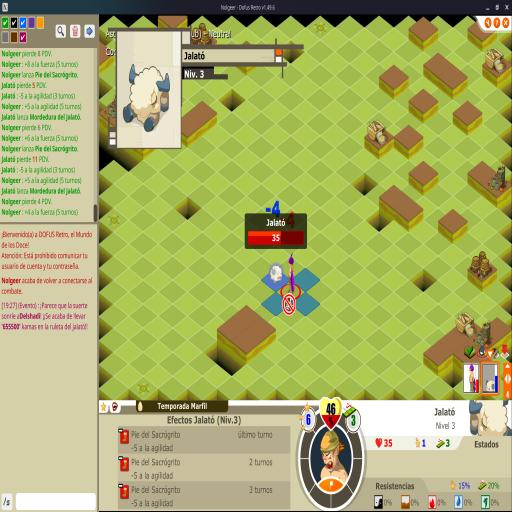Enemigos: (269, 264, 284, 284)
Personaje: (287, 253, 296, 296)
